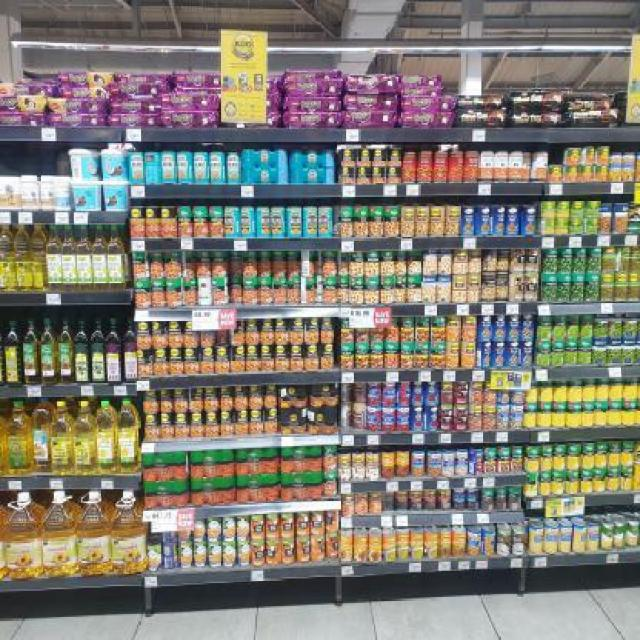Beans: (334, 149, 358, 183), (388, 145, 403, 186), (338, 205, 356, 238), (373, 147, 389, 184), (129, 204, 146, 238), (144, 208, 162, 240), (218, 381, 236, 412), (359, 149, 375, 183), (200, 344, 218, 374), (136, 349, 156, 376), (353, 206, 372, 234), (260, 343, 277, 374), (370, 202, 384, 238), (152, 319, 170, 347), (218, 412, 236, 440), (162, 206, 178, 237), (184, 318, 199, 351), (194, 207, 209, 239), (276, 318, 292, 347), (307, 312, 321, 345), (143, 416, 163, 439), (153, 348, 170, 375), (175, 389, 192, 416), (204, 412, 221, 439), (217, 344, 232, 374), (144, 386, 159, 416), (171, 319, 187, 347), (164, 347, 181, 373), (430, 208, 445, 237), (387, 206, 401, 237), (210, 207, 224, 238), (430, 341, 444, 372), (245, 318, 261, 345), (276, 344, 292, 371), (288, 348, 304, 375), (303, 348, 319, 375), (322, 315, 335, 348), (192, 382, 205, 415), (136, 278, 150, 308), (341, 316, 356, 344), (207, 386, 221, 416), (271, 250, 287, 276), (165, 252, 181, 278), (132, 252, 148, 278), (243, 278, 259, 304), (166, 280, 182, 306), (175, 410, 191, 436), (178, 207, 192, 236), (416, 207, 430, 236), (454, 248, 468, 277), (265, 381, 280, 408), (264, 409, 279, 436), (322, 350, 338, 375), (249, 385, 265, 410), (249, 412, 265, 437), (400, 206, 414, 234), (274, 275, 288, 303), (452, 276, 466, 304), (324, 277, 338, 305), (321, 252, 336, 278), (242, 251, 258, 275), (446, 208, 460, 235), (414, 315, 428, 342), (248, 345, 262, 372), (162, 412, 176, 439), (235, 318, 248, 347), (198, 251, 212, 277), (150, 252, 164, 278), (468, 275, 481, 303), (258, 277, 272, 303), (152, 278, 166, 304), (234, 387, 248, 413), (189, 412, 203, 438), (214, 248, 226, 278), (431, 318, 446, 342), (465, 315, 478, 342), (258, 250, 272, 275), (183, 279, 197, 304), (400, 316, 414, 341), (352, 253, 365, 279), (406, 276, 419, 302), (288, 277, 301, 303), (462, 342, 475, 368), (161, 388, 174, 414), (287, 251, 301, 275), (350, 278, 364, 302), (322, 278, 336, 302), (212, 279, 226, 303), (233, 348, 247, 372), (189, 349, 203, 373), (468, 405, 482, 429), (385, 343, 398, 368), (136, 323, 150, 346), (356, 343, 370, 366), (469, 381, 483, 404), (381, 252, 394, 276), (380, 276, 392, 302), (366, 278, 379, 302), (338, 277, 350, 303), (483, 403, 495, 429), (365, 454, 378, 478), (228, 252, 242, 274), (408, 252, 422, 274), (447, 316, 461, 338), (371, 342, 383, 367), (400, 342, 412, 367), (235, 413, 250, 433), (342, 495, 356, 516), (183, 251, 195, 275), (230, 277, 242, 301), (447, 342, 459, 366), (340, 344, 352, 368), (338, 454, 350, 478), (409, 490, 423, 510), (470, 249, 481, 274), (352, 453, 363, 478), (338, 321, 351, 342), (292, 319, 302, 346), (396, 250, 406, 275), (397, 490, 408, 512), (437, 490, 449, 510), (367, 252, 378, 273), (418, 343, 428, 366), (357, 493, 368, 513), (424, 490, 436, 508), (369, 492, 380, 510), (306, 279, 314, 303), (483, 380, 491, 403), (342, 255, 349, 274)
